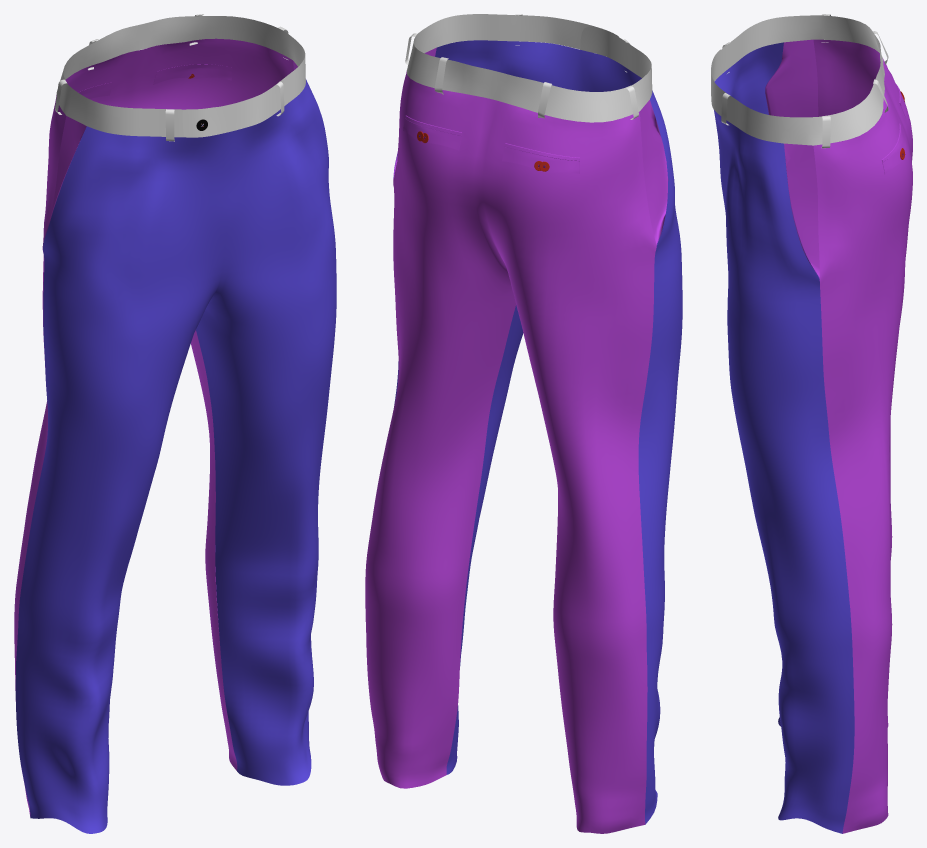
File: SM_CarlosSA_Trousers_Fixed_1.fbx_CarlosSA_Trousers.fbx
3 renders of one model, left to right at view 1: azimuth 30°, elevation 25°; view 2: azimuth 150°, elevation 25°; view 3: azimuth 270°, elevation 25°, orthographic. The views are drawn at different scales.
Visible parts, largest first — view 1: SM_CarlosSA_Trousers_Fixed_1, BELT.001, SM_CarlosSA_Trousers_BackPockets_2FlapsB, BELT.003; view 2: SM_CarlosSA_Trousers_Fixed_1, BELT.001, SM_CarlosSA_Trousers_BackPockets_2FlapsB, BELT.003; view 3: SM_CarlosSA_Trousers_Fixed_1, BELT.001, BELT.003, SM_CarlosSA_Trousers_BackPockets_2FlapsB.
Boxes of the visible parts, left/top/right/bottom form: SM_CarlosSA_Trousers_Fixed_1: left=14, top=38, right=336, bottom=833; BELT.001: left=56, top=16, right=305, bottom=137; SM_CarlosSA_Trousers_BackPockets_2FlapsB: left=81, top=64, right=231, bottom=98; BELT.003: left=55, top=14, right=288, bottom=141; SM_CarlosSA_Trousers_Fixed_1: left=365, top=40, right=682, bottom=833; BELT.001: left=407, top=14, right=652, bottom=122; SM_CarlosSA_Trousers_BackPockets_2FlapsB: left=403, top=115, right=579, bottom=173; BELT.003: left=405, top=14, right=638, bottom=119; SM_CarlosSA_Trousers_Fixed_1: left=714, top=39, right=912, bottom=833; BELT.001: left=711, top=15, right=884, bottom=145; BELT.003: left=721, top=14, right=888, bottom=148; SM_CarlosSA_Trousers_BackPockets_2FlapsB: left=881, top=84, right=906, bottom=174.
Size of the model in its own units: 38.28 by 96.17 by 24.5.
